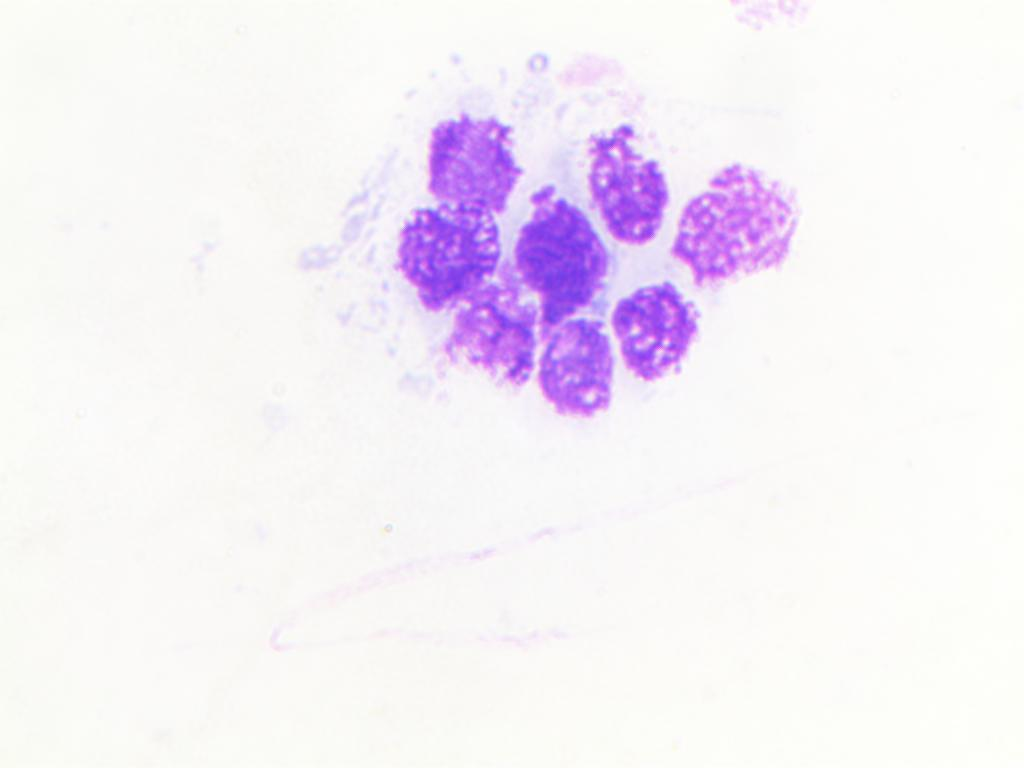epithelial: (668, 151, 803, 288), (508, 182, 610, 314), (397, 198, 506, 316), (419, 99, 524, 220), (590, 116, 667, 241), (537, 310, 616, 428), (614, 280, 701, 381)
